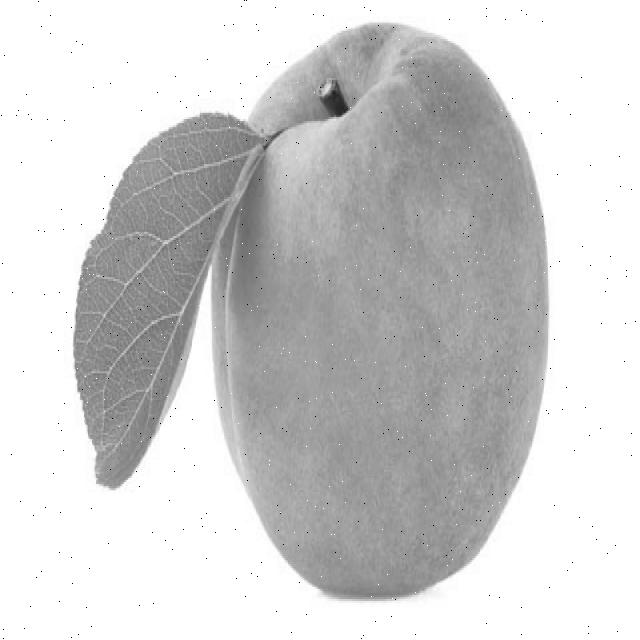kayisi: (213, 21, 548, 597)
kayisi yapragi: (73, 106, 263, 520)
